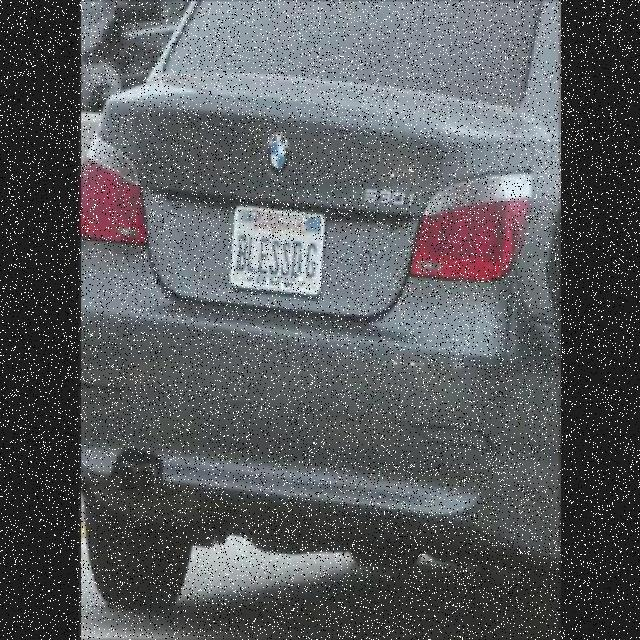licenseplate: (230, 203, 324, 295)
